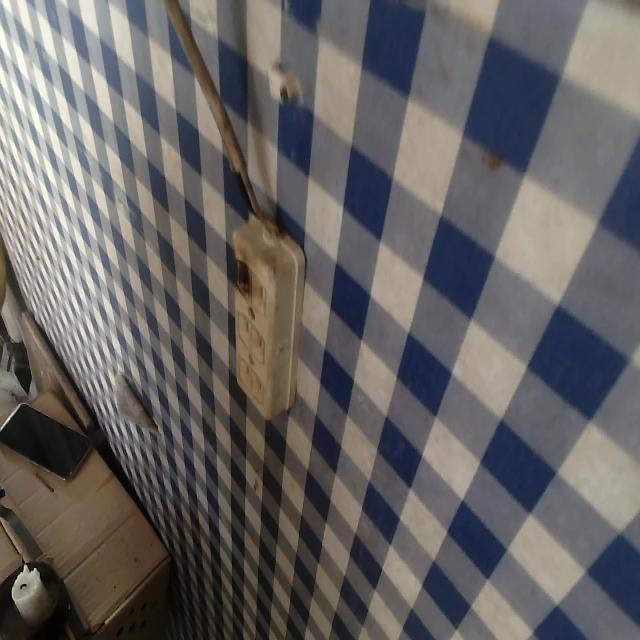-: (229, 249, 257, 303)
